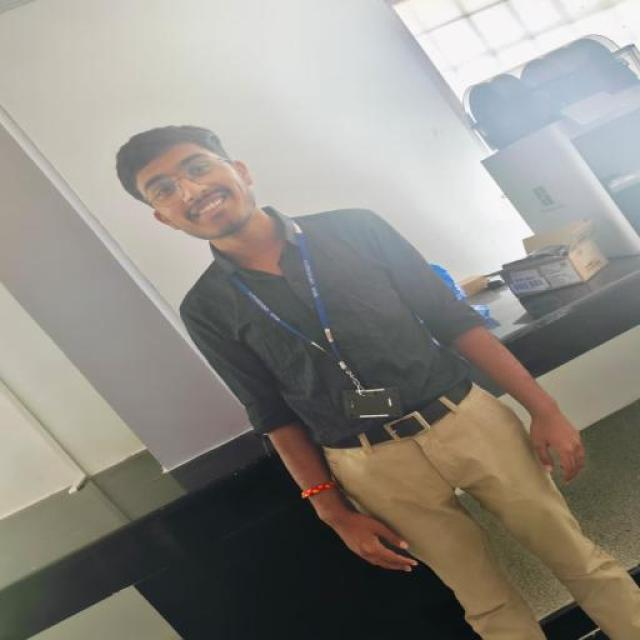Card: (343, 388, 402, 418)
Id strap: (294, 223, 363, 392)
